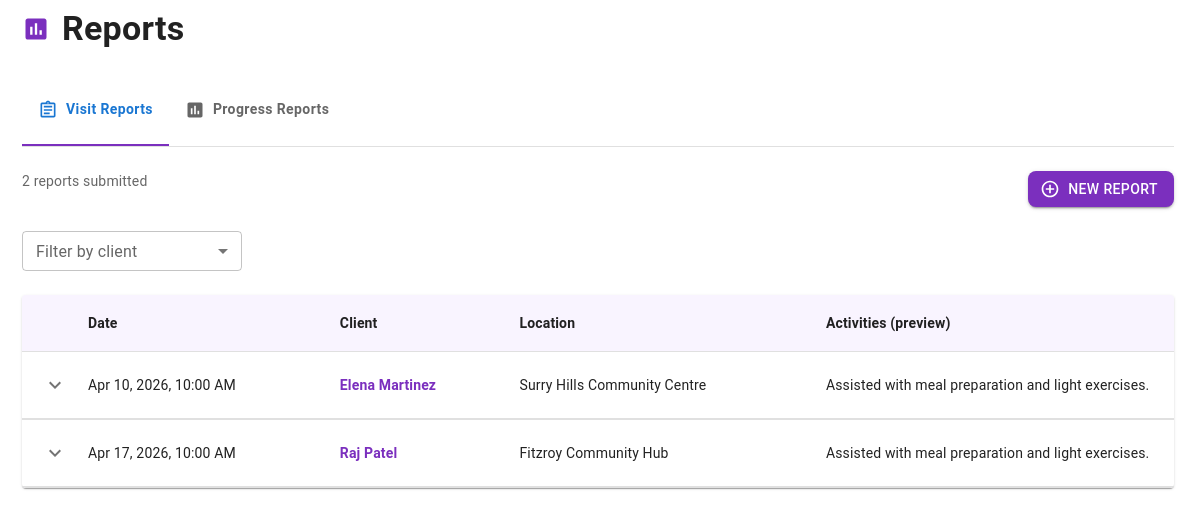
ReportsPage › client filter › populates the filter dropdown with unique client names
Expected: the text "Raj Patel" is shown, [324,420,503,487]
Click the dropdown: coordinates (132, 252) [22,232,242,272]
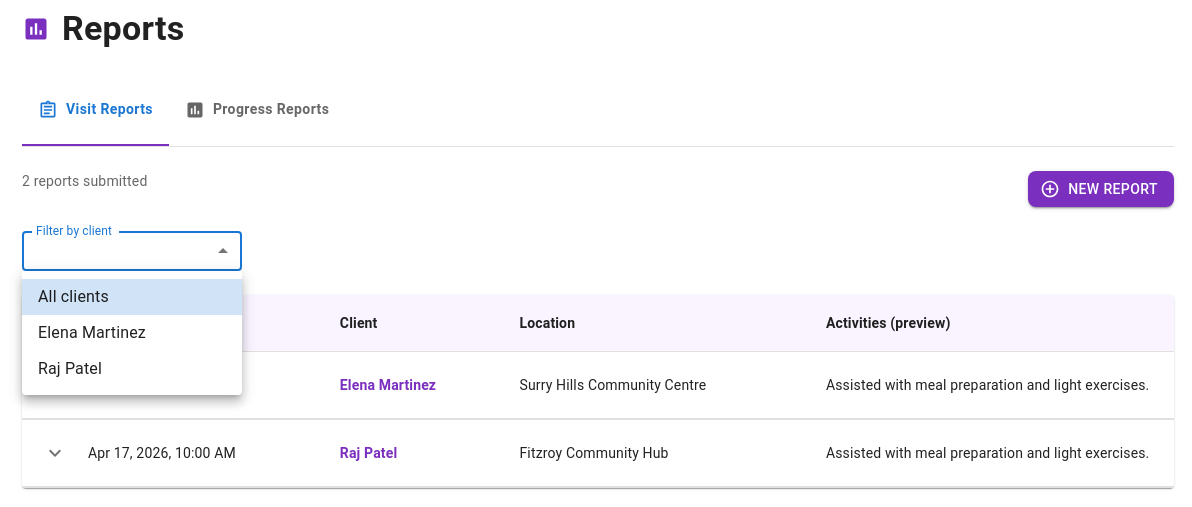
Expected: the option "Elena Martinez" is shown, [38,323,146,342]
Expected: the option "Raj Patel" is shown, [38,359,102,378]
